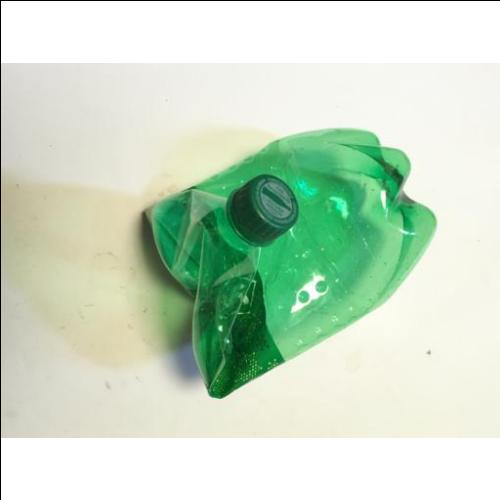plastic: (142, 127, 437, 400)
